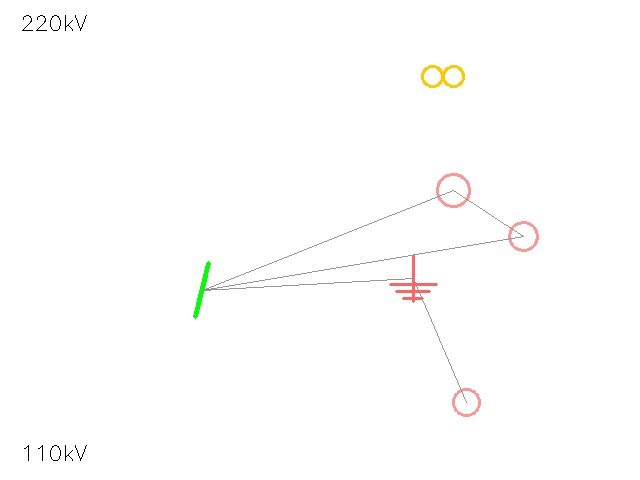busbar: (168, 256, 236, 324)
ground: (390, 255, 436, 301)
load_break_switch: (440, 376, 492, 428)
reactor: (420, 157, 486, 223), (495, 208, 551, 264)
transformer_2w: (416, 49, 470, 103)
